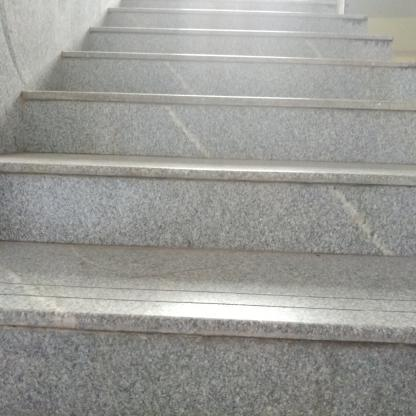stairs: (18, 92, 416, 346)
